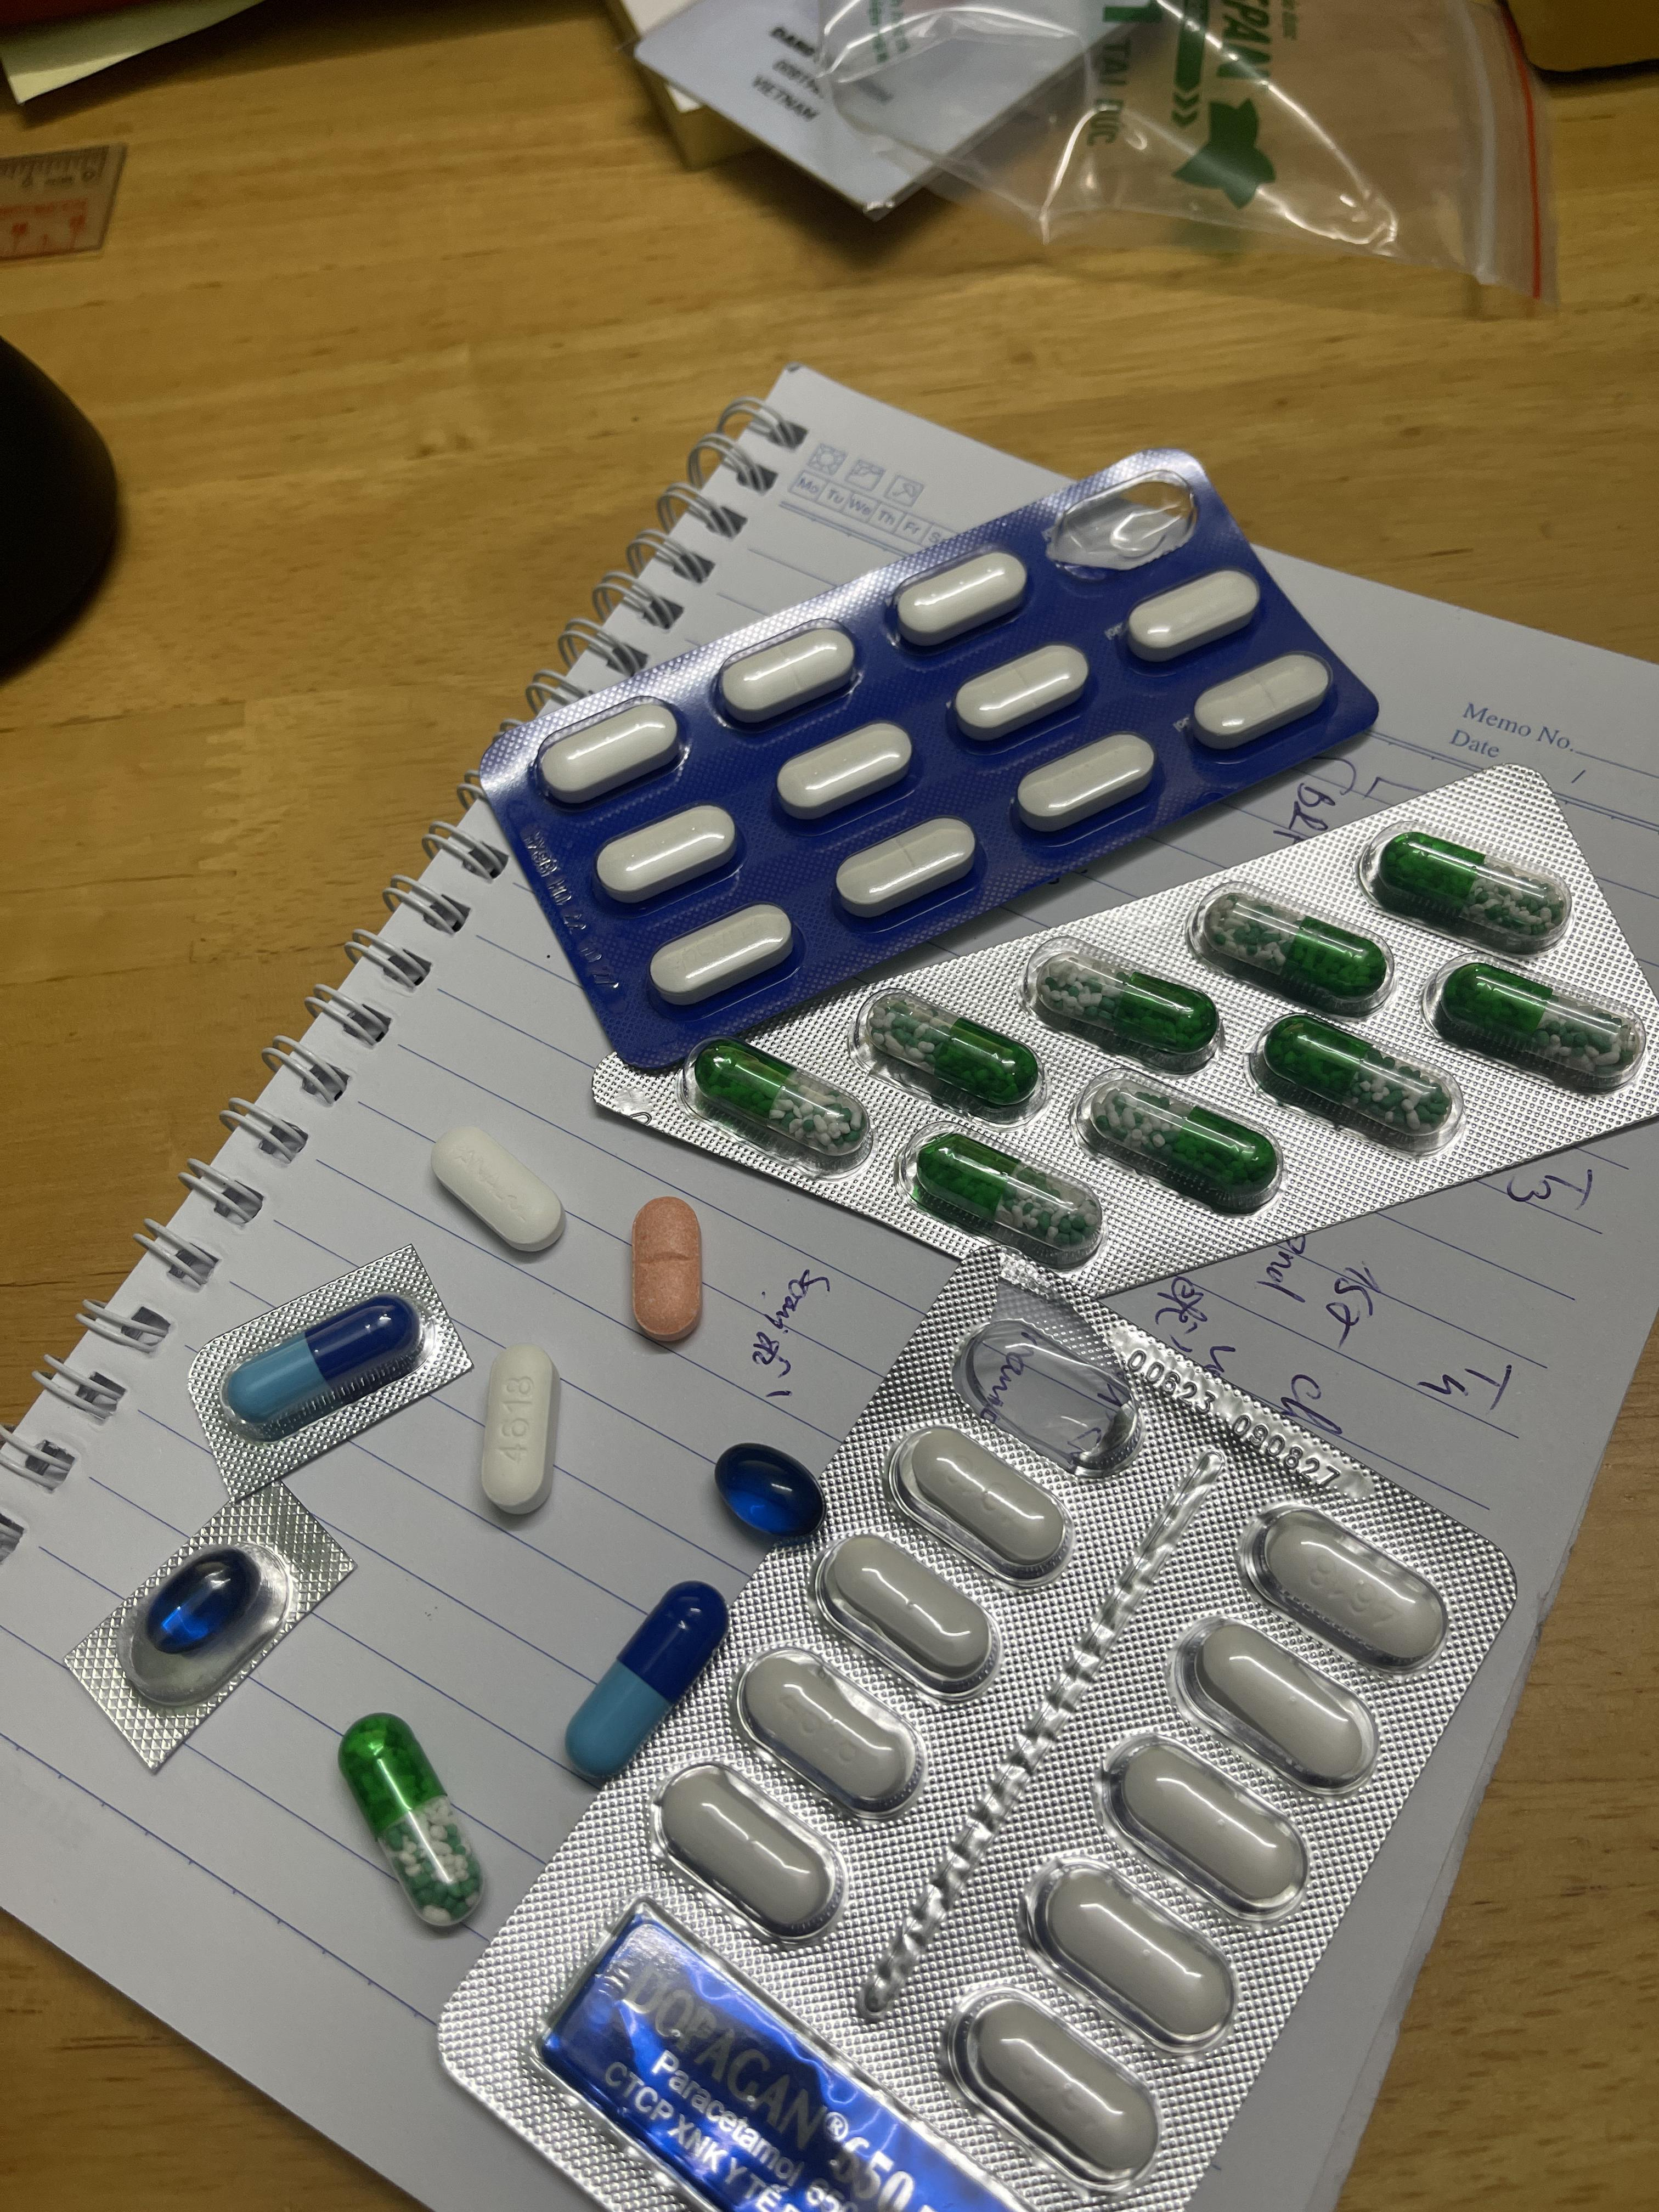Lincomyxin_500mg: (146, 1548, 258, 1653), (714, 1444, 826, 1540)
Loratadine_10mg: (631, 1200, 704, 1339)
Paracetamol_350mg: (430, 1122, 566, 1252), (537, 702, 681, 805), (594, 805, 742, 904), (831, 817, 978, 914), (1014, 735, 1159, 833), (648, 904, 791, 1001), (951, 646, 1091, 742), (1190, 655, 1331, 749), (777, 721, 913, 819), (1122, 568, 1262, 662), (718, 627, 854, 723), (892, 552, 1028, 648)
Paracetamol_500mg: (941, 1989, 1168, 2198), (1028, 1858, 1246, 2050), (1100, 1730, 1312, 1925), (1171, 1615, 1378, 1799), (1239, 1498, 1455, 1674), (653, 1761, 835, 1949), (812, 1531, 1000, 1705), (739, 1648, 924, 1817), (890, 1420, 1075, 1581), (479, 1341, 558, 1508)
Paracetamol_650mg: (342, 1717, 483, 1921), (1269, 1021, 1448, 1136), (920, 1136, 1091, 1252), (695, 1043, 866, 1158), (1443, 965, 1628, 1071), (1098, 1089, 1270, 1200), (1378, 834, 1563, 935), (1213, 900, 1382, 1000), (882, 1005, 1035, 1106), (1046, 963, 1209, 1055)
pill: (559, 1585, 727, 1780), (225, 1298, 418, 1432)
